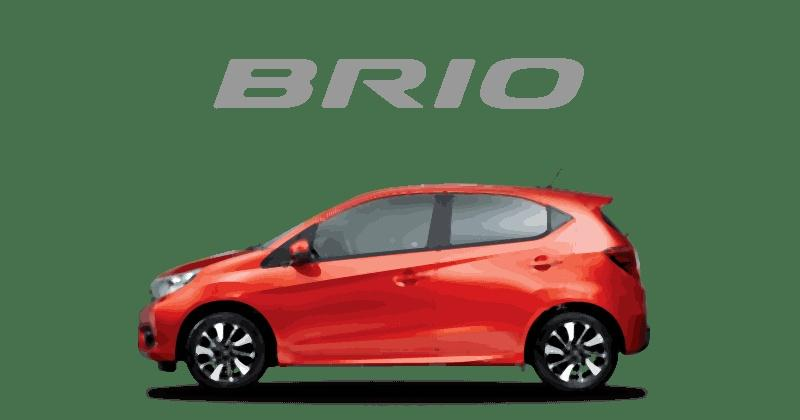Car hood: (151, 243, 261, 277)
Fender - -F-L-: (181, 244, 281, 369)
Fender - -R-L-: (526, 187, 621, 364)
Front bumper: (134, 300, 186, 374)
Passenger-s door - -F-L-: (263, 179, 439, 382)
Passenger-s door - -R-L-: (431, 176, 562, 368)
Rear bumper: (597, 277, 651, 357)
Rear light - -L-: (601, 247, 640, 289)
Side bumper - -L-: (267, 327, 532, 374)
Side mirror - -L-: (287, 238, 313, 270)
